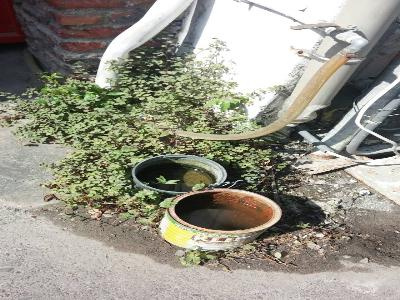bottle: (157, 188, 282, 254), (133, 154, 228, 196)
